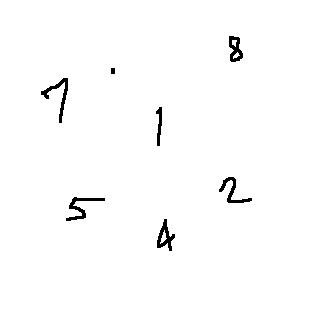.: (106, 61, 121, 81)
1: (149, 96, 170, 154)
2: (213, 170, 262, 209)
4: (151, 216, 193, 259)
5: (60, 188, 108, 225)
7: (40, 69, 72, 134)
8: (220, 32, 260, 69)
